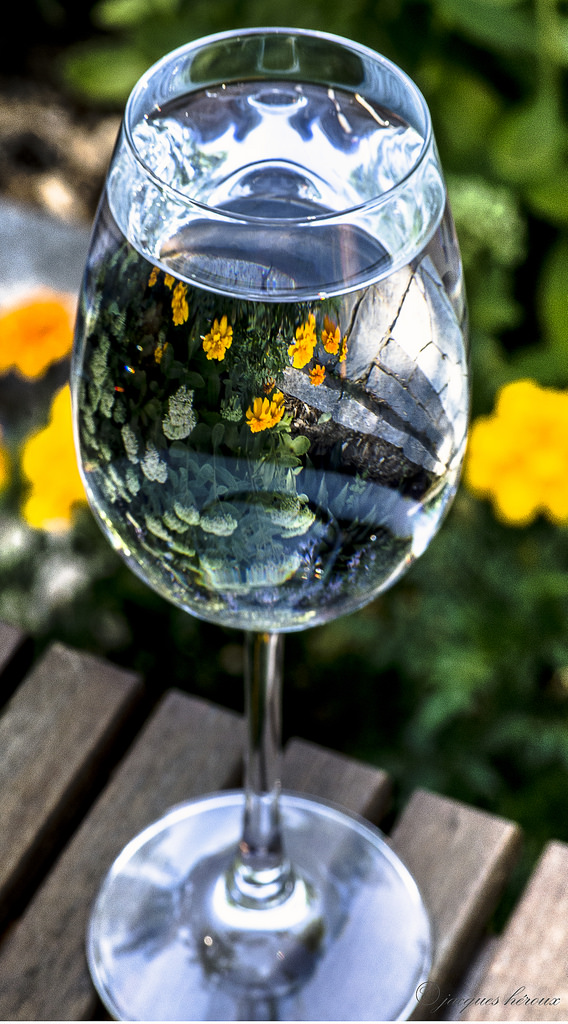glass of water: (82, 27, 435, 1024)
